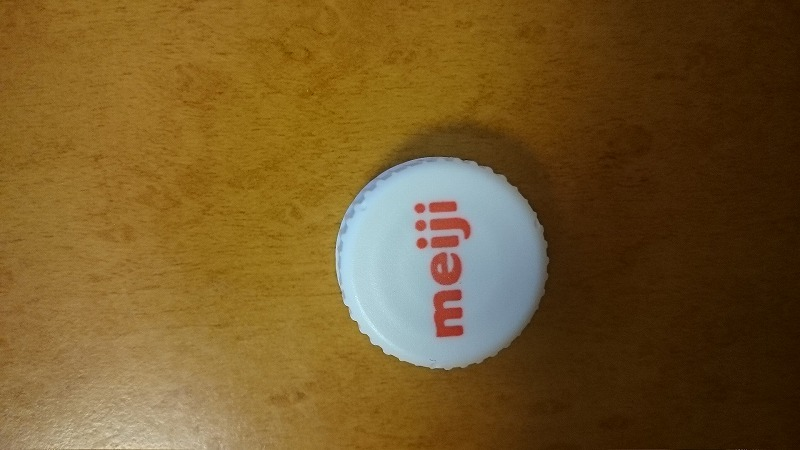B: (325, 148, 558, 372)
